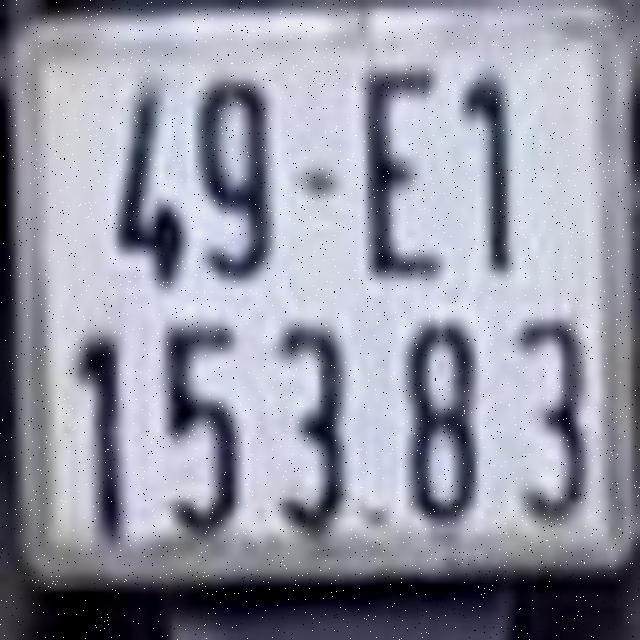1: (459, 67, 525, 275), (72, 331, 130, 542)
3: (511, 307, 592, 527), (273, 315, 348, 534)
4: (112, 77, 188, 290)
5: (161, 318, 244, 536)
8: (403, 312, 482, 525)
9: (194, 74, 274, 284)
E: (359, 58, 448, 284)
